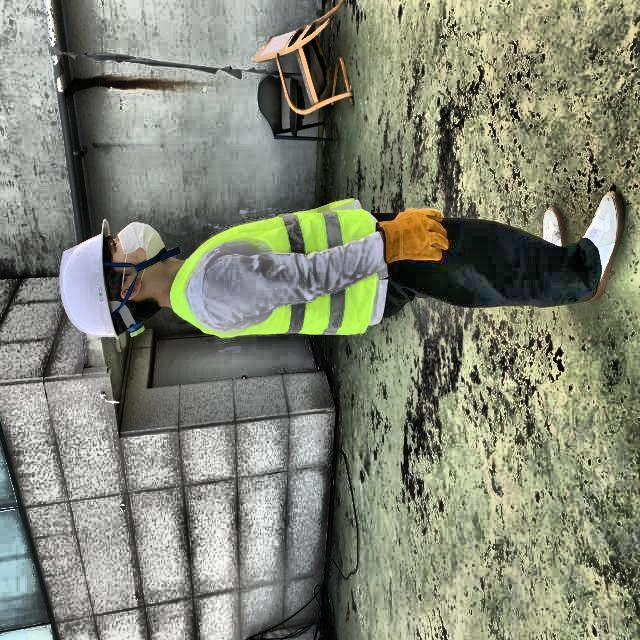gloved: (379, 197, 451, 270)
